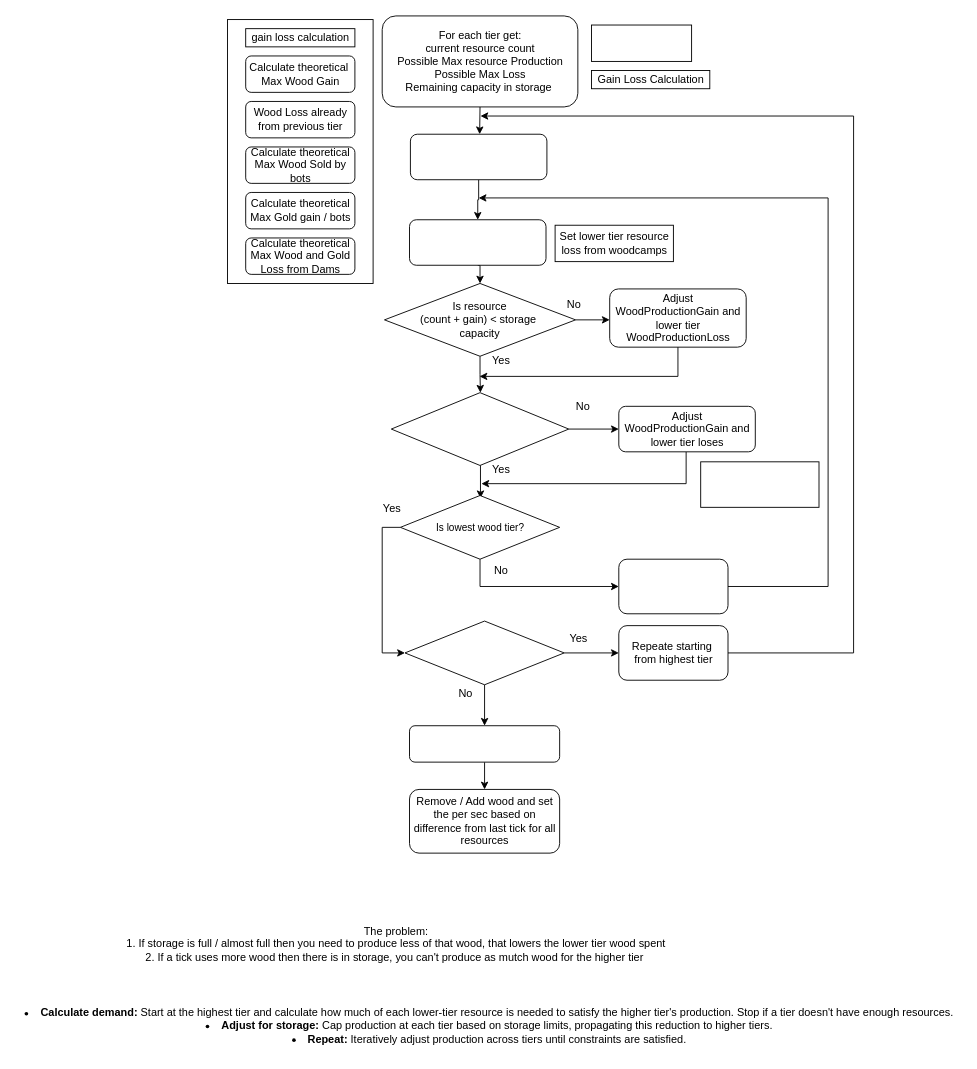
Some shapes in this 977 by 1069 pixel diagram are drawn without their labels. Each missing label, with the centre of its shape:
Adjust lower tier wood loss proportionaly, so there is enough wood: (759,484)
Any adjustments?: (484,652)
Calculate and adjust on availability Dragonwood Loses: (484,743)
Calculate Lower tier resources needed: (477,242)
lower tier resources needed < (count + produced): (479,428)
Repeat with one tier lower: (673,586)
Start from the highest tier: (478,156)
Take in to account production sliders: (641,42)
